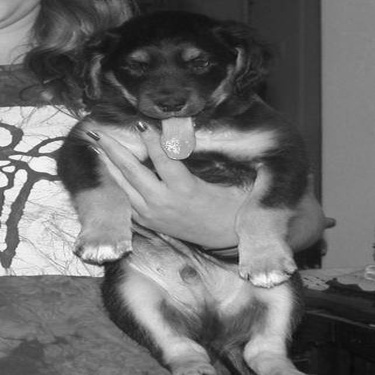dog: (22, 11, 323, 370)
